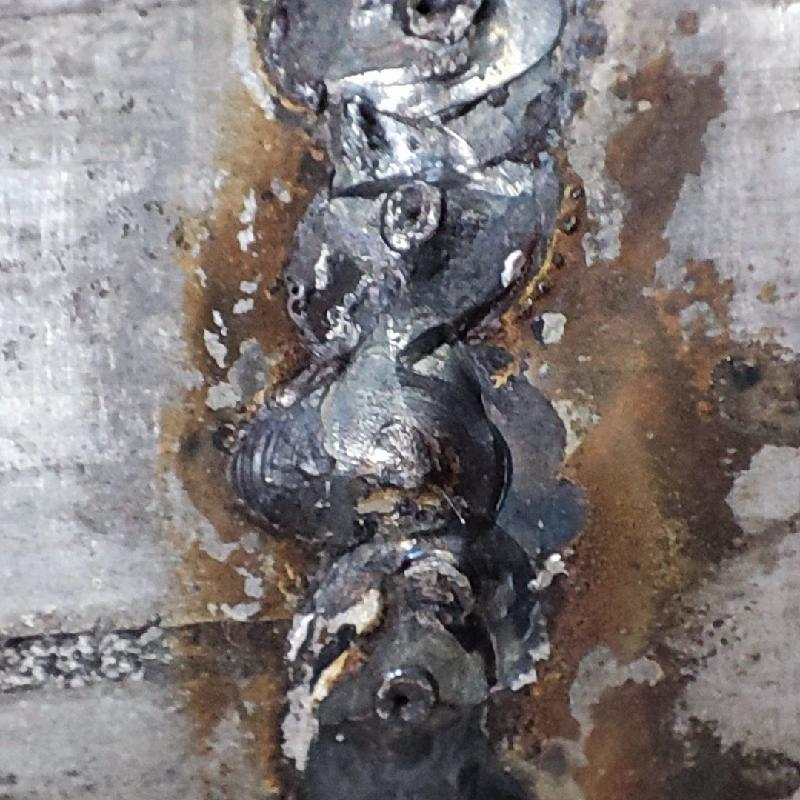Surface_pores: (391, 186, 443, 240), (382, 684, 426, 722)
